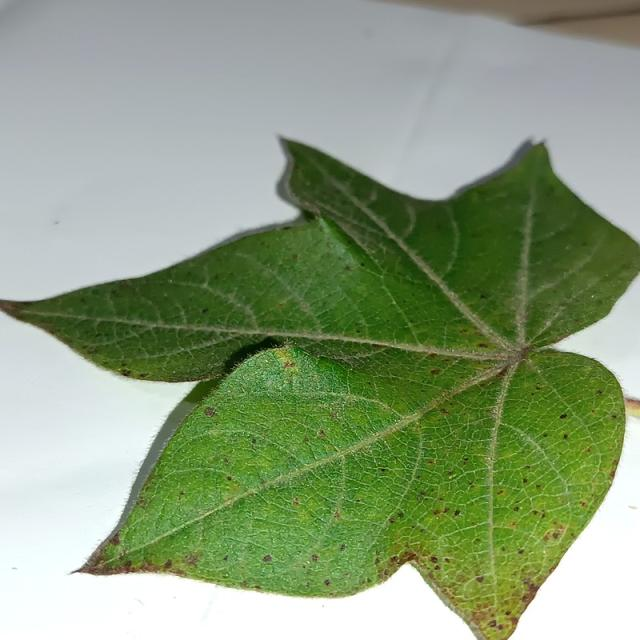Bacterial_Blight: (312, 389, 370, 425), (515, 585, 540, 616), (374, 561, 396, 581), (517, 345, 534, 359), (225, 479, 240, 493), (467, 191, 482, 205), (400, 551, 417, 563), (185, 553, 200, 566), (128, 557, 144, 569), (558, 409, 572, 421), (108, 532, 120, 545), (171, 567, 186, 577), (496, 367, 509, 378), (204, 407, 216, 417), (122, 560, 132, 571), (528, 583, 538, 594), (284, 360, 295, 369), (318, 428, 327, 438), (163, 559, 173, 568), (389, 555, 398, 565), (136, 498, 146, 507), (509, 617, 518, 626), (487, 619, 497, 627), (263, 554, 272, 562), (333, 510, 341, 519), (292, 497, 300, 506), (521, 594, 530, 602), (430, 369, 440, 376), (121, 369, 131, 376), (477, 342, 488, 348), (282, 225, 293, 231), (311, 554, 319, 562), (331, 412, 339, 420), (212, 273, 220, 281), (440, 408, 449, 415), (475, 576, 484, 583), (138, 372, 148, 378), (339, 543, 346, 551), (430, 556, 438, 563), (201, 307, 209, 314), (323, 579, 331, 586), (396, 511, 404, 518), (433, 509, 441, 516), (433, 564, 441, 571), (523, 579, 531, 586), (241, 581, 249, 588), (610, 470, 616, 479), (596, 389, 603, 396), (454, 509, 461, 516), (552, 532, 559, 539), (223, 457, 230, 464), (222, 554, 229, 561), (443, 507, 450, 514), (388, 517, 395, 524), (517, 548, 524, 555), (374, 557, 381, 564), (53, 220, 61, 226), (344, 265, 351, 271), (419, 491, 426, 497), (303, 436, 310, 442), (497, 489, 504, 495), (504, 610, 511, 616), (580, 501, 587, 507), (292, 254, 298, 261), (170, 368, 177, 374), (379, 467, 387, 472), (479, 294, 487, 299), (254, 585, 262, 590), (563, 433, 569, 439), (522, 478, 528, 484), (226, 475, 232, 481), (251, 438, 257, 444), (513, 506, 519, 512), (463, 456, 469, 462), (428, 460, 435, 465), (355, 498, 362, 503), (573, 318, 580, 323), (612, 414, 618, 419), (179, 491, 185, 496), (360, 262, 366, 267), (355, 329, 361, 334), (306, 582, 311, 588), (304, 560, 310, 565), (11, 567, 18, 570), (591, 409, 596, 413), (435, 516, 440, 520), (591, 294, 595, 298)
Cotton: (0, 138, 639, 639)
